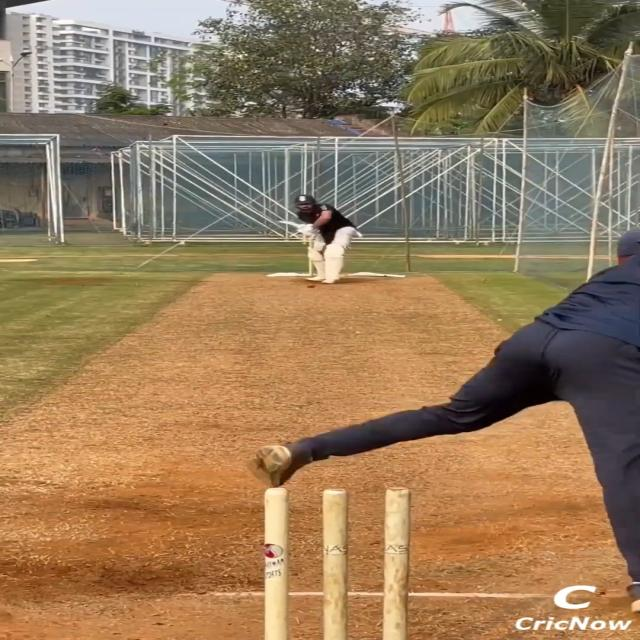ball: (307, 283, 315, 288)
stump: (266, 484, 411, 640)
